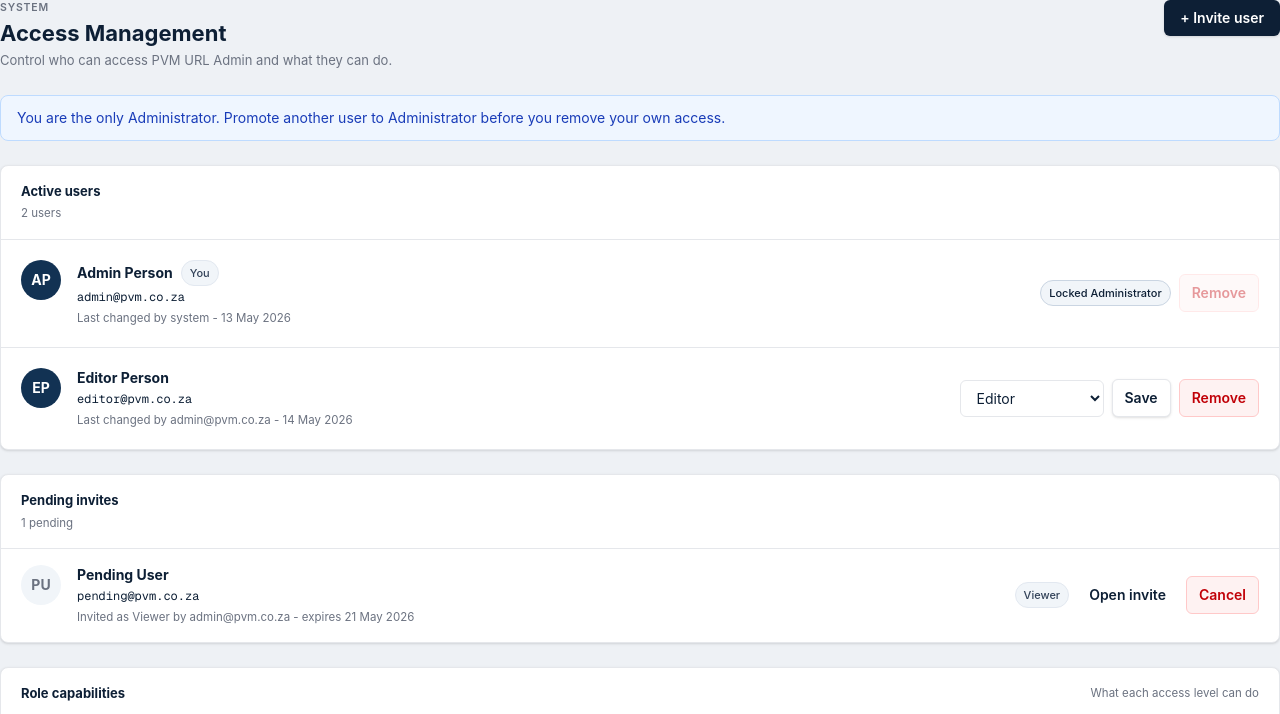
Scenario: AdminAccessPage › renders real access users, role controls, and capabilities
Expected: the heading "Access Management" is shown, [0, 20, 226, 46]
Expected: the text "2 users" is shown, [21, 206, 61, 220]
Step 1. Click the button "+ Invite user" → (1222, 18), box [1164, 0, 1279, 36]
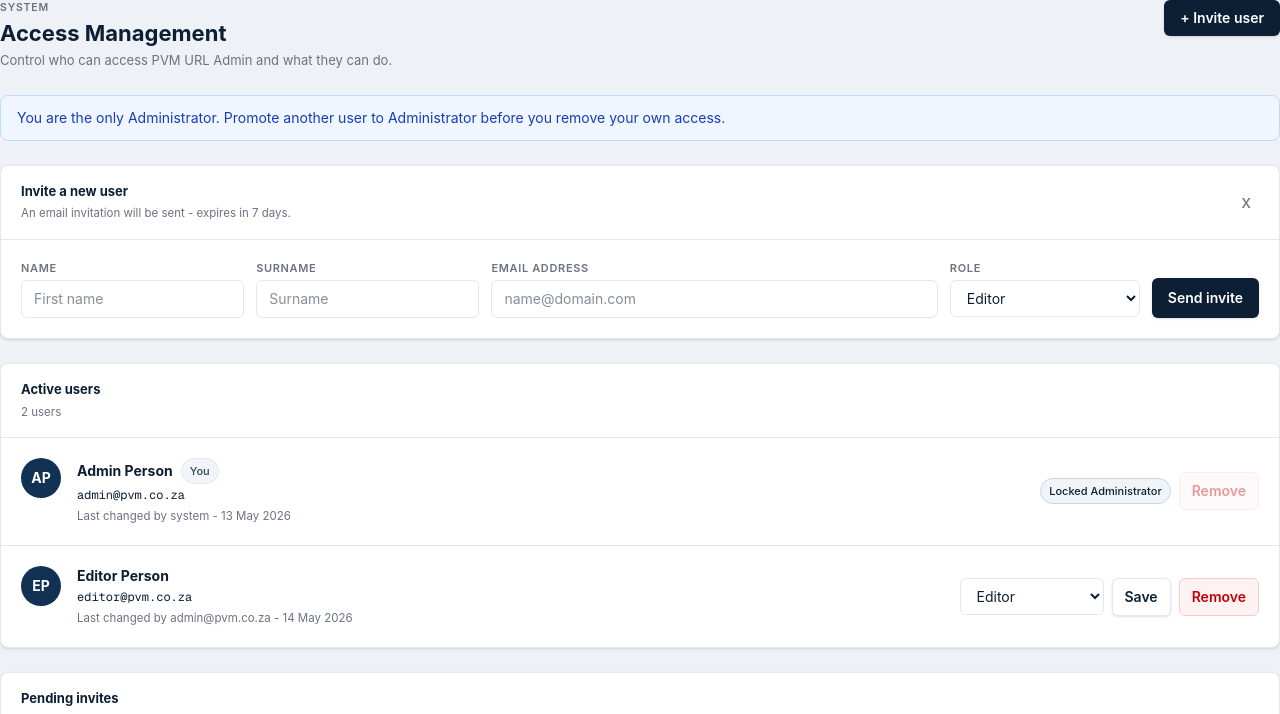
Now the button "Send invite" is shown, box [1152, 278, 1259, 318]
Step 2. Click the button named "Close invite user panel" → (1246, 202), box [1233, 189, 1259, 215]
(page scrolled)
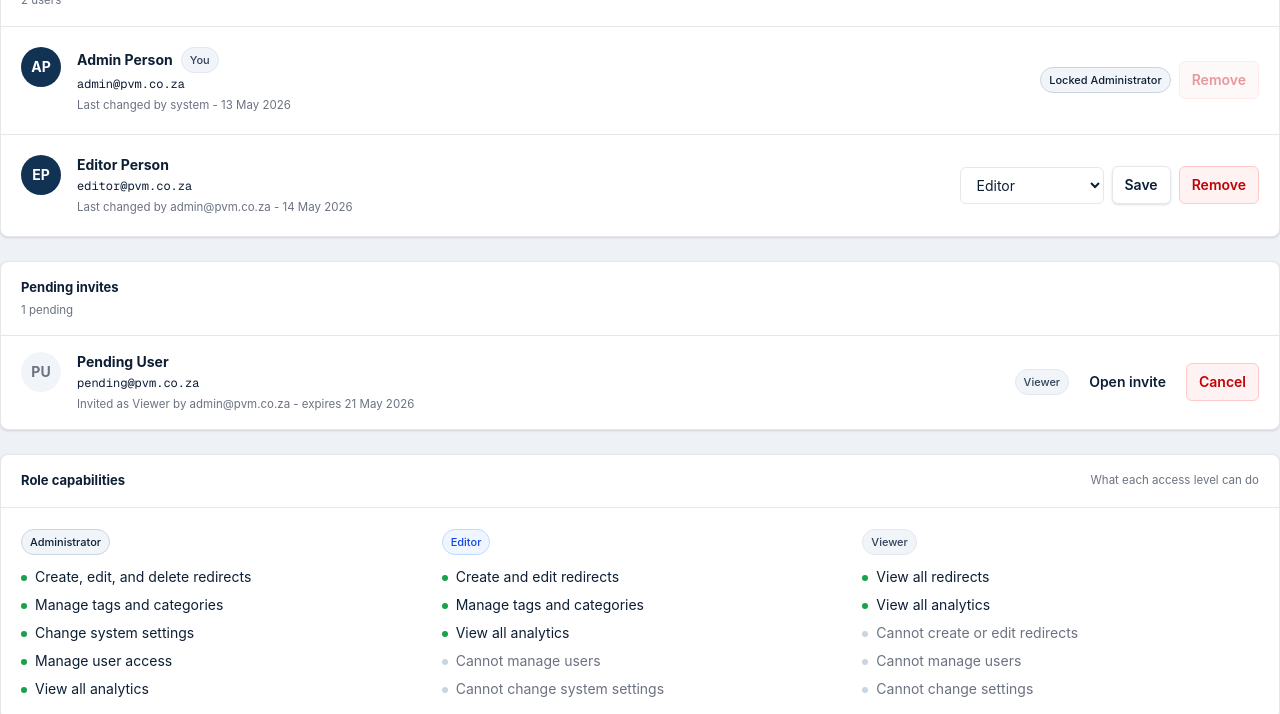
Expected: the dropdown named "Role for editor@pvm.co.za" shows "Editor", [960, 167, 1104, 204]
Now the label labelled "Email address" is gone
